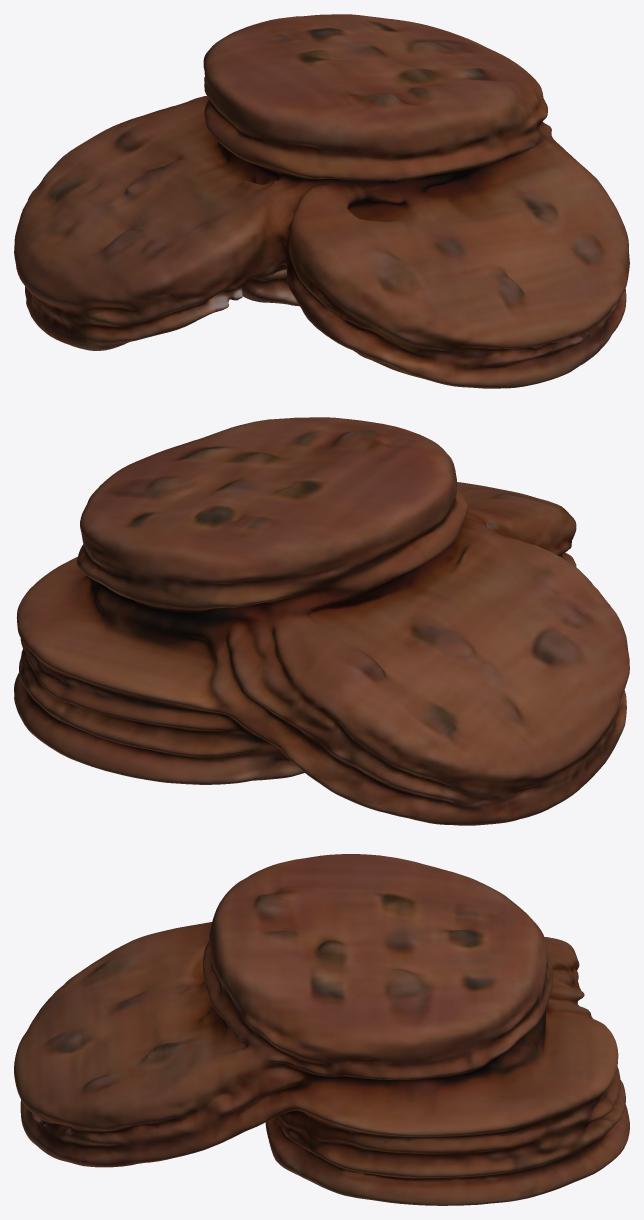
File: cacaoBiscuits.glb
The picture shows the model from 3 angles, top to bottom: view 1: azimuth 30°, elevation 25°; view 2: azimuth 150°, elevation 25°; view 3: azimuth 270°, elevation 25°; orthographic projection. The views are drawn at different scales.
Parts seen in each view (by area): view 1: high_poly; view 2: high_poly; view 3: high_poly.
Part boxes in pixels (x1,y1,x2,y2): high_poly: (14,14,629,388); high_poly: (14,417,629,825); high_poly: (14,854,629,1205).
Bounding box in the file's own units: 0.9351 × 0.414 × 1.
Materials: 1 (1 with a texture image).
